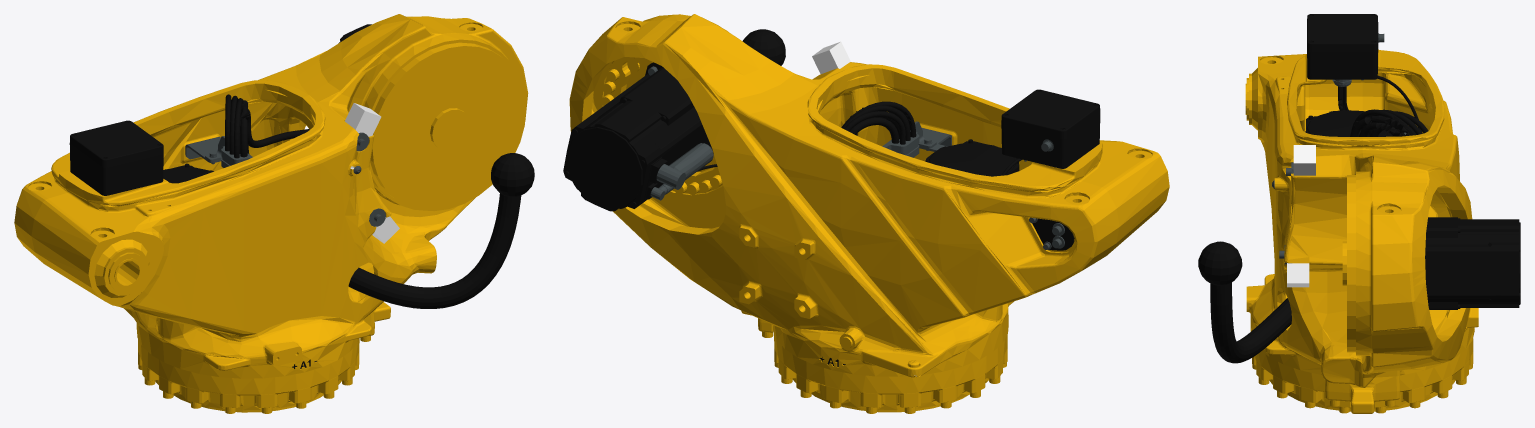
3 views of the same model, side by side, from view 1: azimuth 30°, elevation 25°; view 2: azimuth 150°, elevation 25°; view 3: azimuth 270°, elevation 25° (orthographic). The views are drawn at different scales.
Parts seen in each view (by area): view 1: link_1; view 2: link_1; view 3: link_1.
Part boxes in pixels (x1,y1,x2,y2): link_1: [14, 14, 534, 413]; link_1: [563, 14, 1169, 413]; link_1: [1198, 14, 1520, 413].
Size of the model in its own units: 1.3 by 0.725 by 0.7436.
